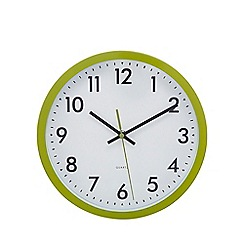clock: (45, 60, 199, 213)
